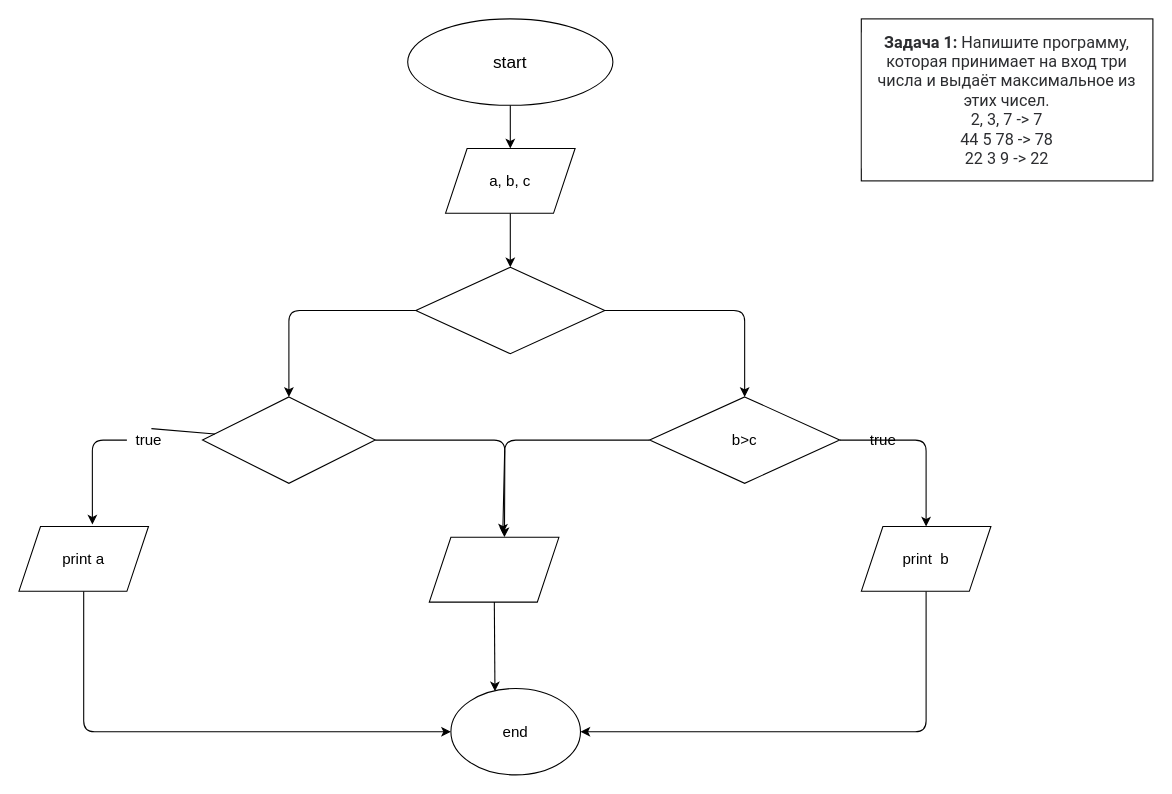
Image size: 1172x794. Some labels were removed from this diagram. The box of each missing label's shape, as (x1, y1, x2, y2) in pixels:
a>b: (415, 266, 605, 354)
a>c: (201, 396, 375, 483)
print c: (428, 536, 559, 602)
